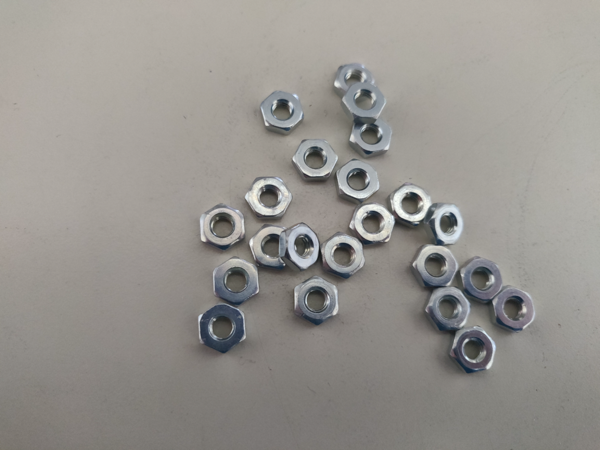nut: (197, 202, 247, 252), (198, 305, 246, 354), (448, 328, 496, 375), (247, 177, 294, 224), (411, 244, 460, 289), (295, 278, 339, 327), (489, 288, 536, 333), (214, 256, 259, 302), (425, 288, 471, 333), (280, 224, 323, 270), (293, 138, 340, 180), (261, 91, 307, 133), (459, 257, 503, 300), (324, 235, 367, 278), (348, 203, 394, 242), (341, 82, 387, 121), (337, 161, 380, 200), (390, 185, 431, 225), (426, 204, 465, 245), (349, 120, 392, 157), (249, 228, 289, 265), (335, 64, 376, 91)
